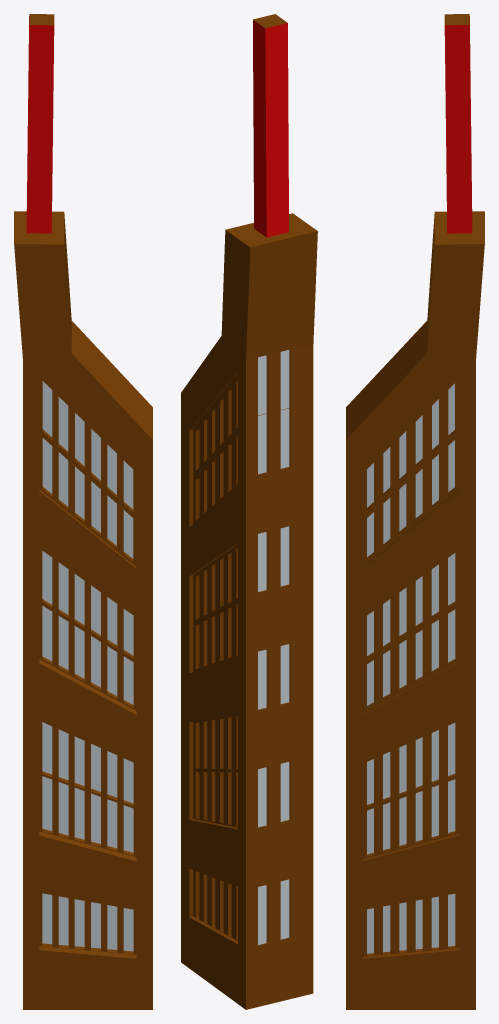
Rendered from 55_yazz_boulevard.fbx.
3 renders of one model, left to right at view 1: azimuth 90°, elevation 25°; view 2: azimuth 210°, elevation 25°; view 3: azimuth 270°, elevation 25°, orthographic.
Visible parts, largest first — view 1: Cube; view 2: Cube; view 3: Cube.
Part boxes in pixels (<box>): Cube: <box>14,14,152,1009</box>; Cube: <box>181,14,317,1009</box>; Cube: <box>346,14,484,1009</box>.
Size of the model in its own units: 60 by 827 by 107.
